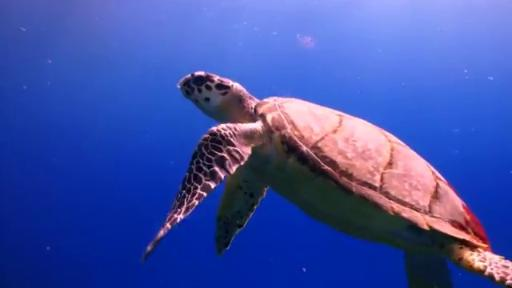Fish: (144, 72, 511, 287)
